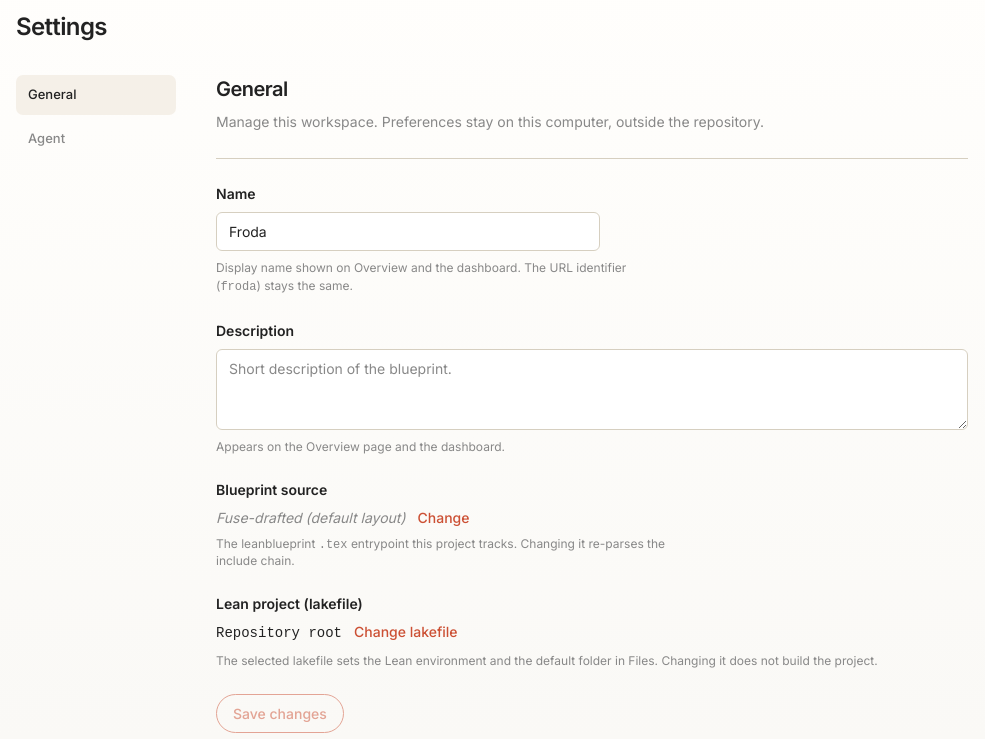
Test: SettingsMode › saves changed name, description and auto-commit without any pull-request field
This screenshot has width=985, height=739.
Replace the text in the field labelled "Name" with " Froda renamed " at x=408, y=231, box [216,212,600,251]
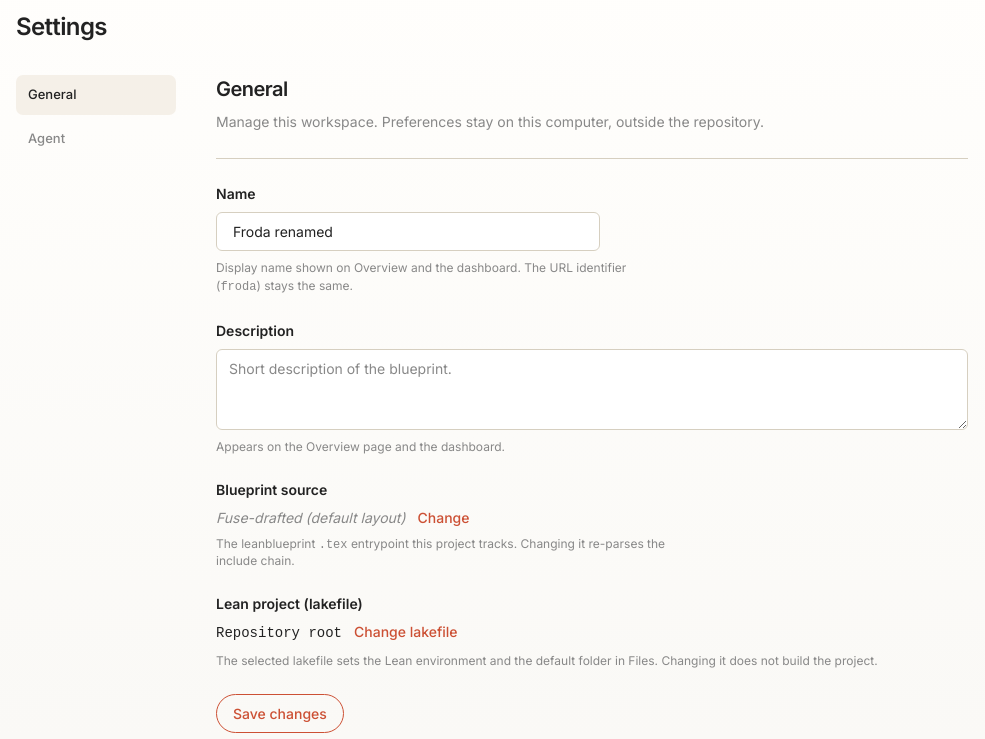
Type "desc" into the text box labelled "Description" at x=592, y=389, box [216,349,968,430]
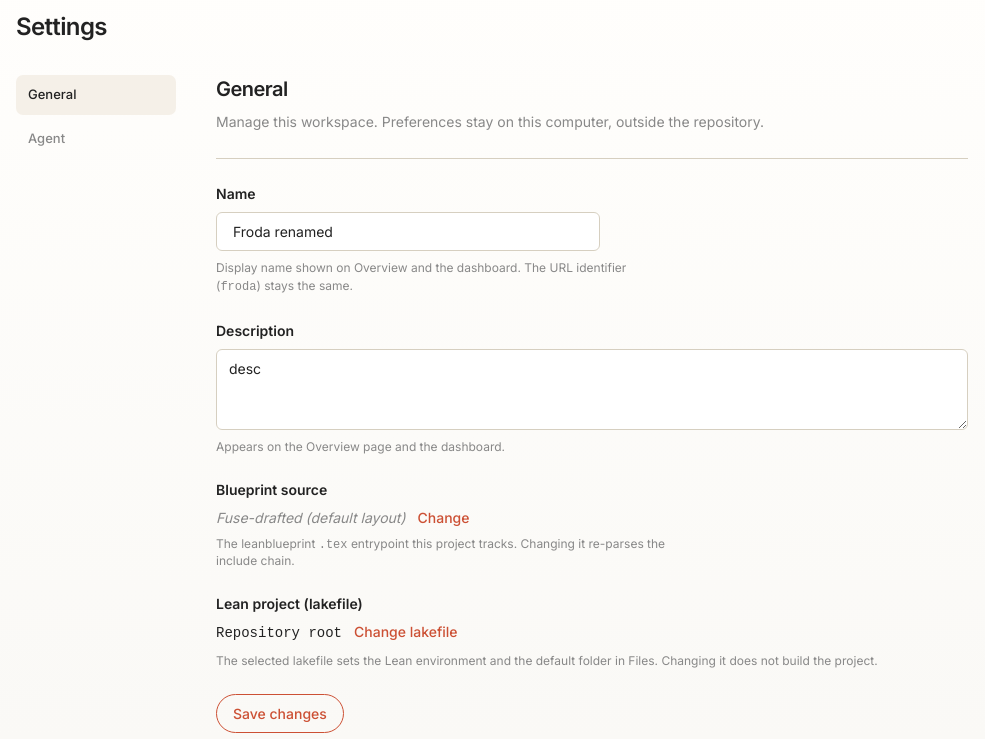
Click the button "Save changes" at x=280, y=714, box [216,694,344,733]
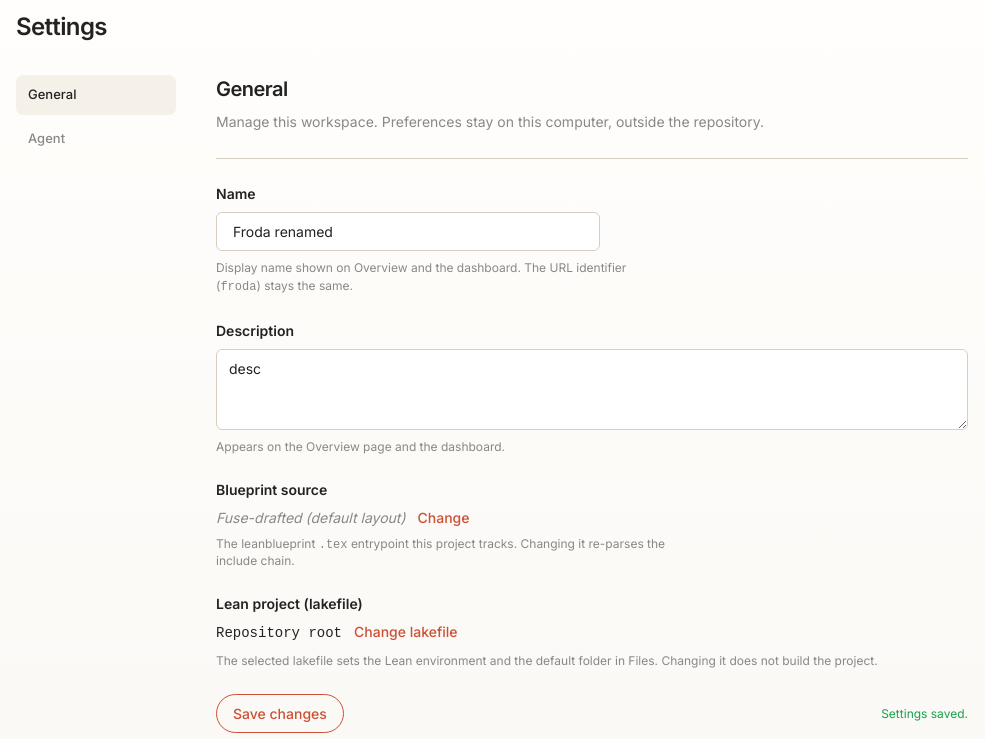
Expected: the text "Settings saved." is shown, [881,706,968,722]
